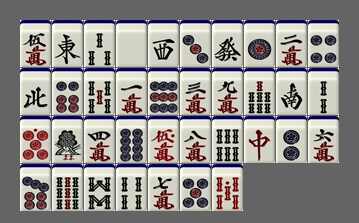0m: (148, 116, 179, 163)
0p: (20, 116, 51, 163)
0s: (212, 164, 243, 211)
1m: (116, 68, 147, 115)
1p: (244, 20, 275, 67)
1s: (52, 116, 83, 163)
1z: (52, 20, 83, 67)
2m: (276, 20, 307, 67)
2p: (276, 116, 307, 163)
2s: (308, 68, 339, 115)
2z: (276, 68, 307, 115)
3m: (180, 68, 211, 115)
3p: (180, 20, 211, 67)
3s: (84, 20, 115, 67)
3z: (148, 20, 179, 67)
4m: (84, 116, 115, 163)
4p: (308, 20, 339, 67)
4s: (116, 164, 147, 211)
4z: (20, 68, 51, 115)
5m: (20, 20, 51, 67)
5p: (180, 164, 211, 211)
5s: (84, 68, 115, 115)
5z: (116, 20, 147, 67)
6m: (308, 116, 339, 163)
6p: (52, 68, 83, 115)
6s: (212, 116, 243, 163)
6z: (212, 20, 243, 67)
7m: (148, 164, 179, 211)
7p: (20, 164, 51, 211)
7s: (244, 68, 275, 115)
7z: (244, 116, 275, 163)
8m: (180, 116, 211, 163)
8p: (116, 116, 147, 163)
8s: (84, 164, 115, 211)
9m: (212, 68, 243, 115)
9p: (148, 68, 179, 115)
9s: (52, 164, 83, 211)
